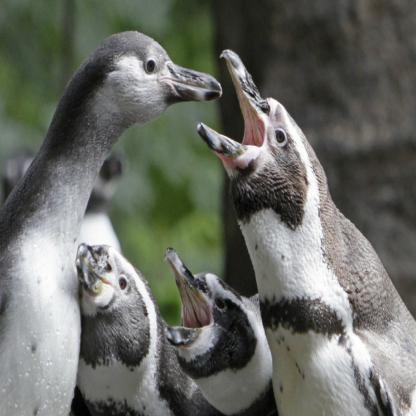Penguin: (0, 18, 227, 415), (193, 36, 416, 416), (62, 232, 233, 415), (145, 239, 317, 416)
